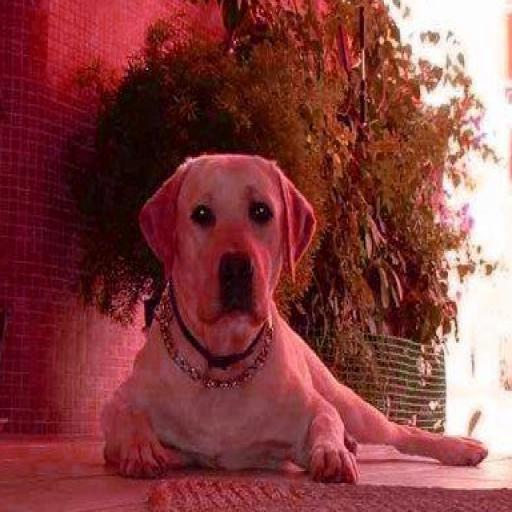dog_face: (139, 150, 308, 323)
